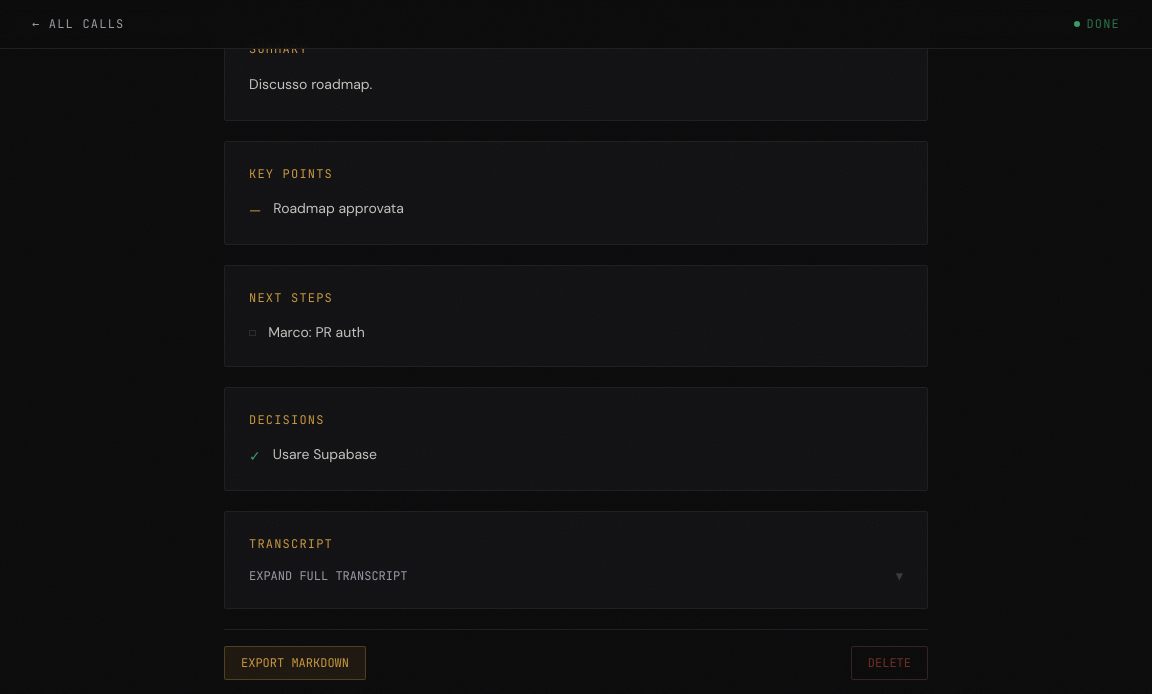
Test: CallDetail › espande la trascrizione al click
(page scrolled)
Step 1. Click the text "EXPAND FULL TRANSCRIPT" → {"x": 328, "y": 576}, box [249,568,407,584]
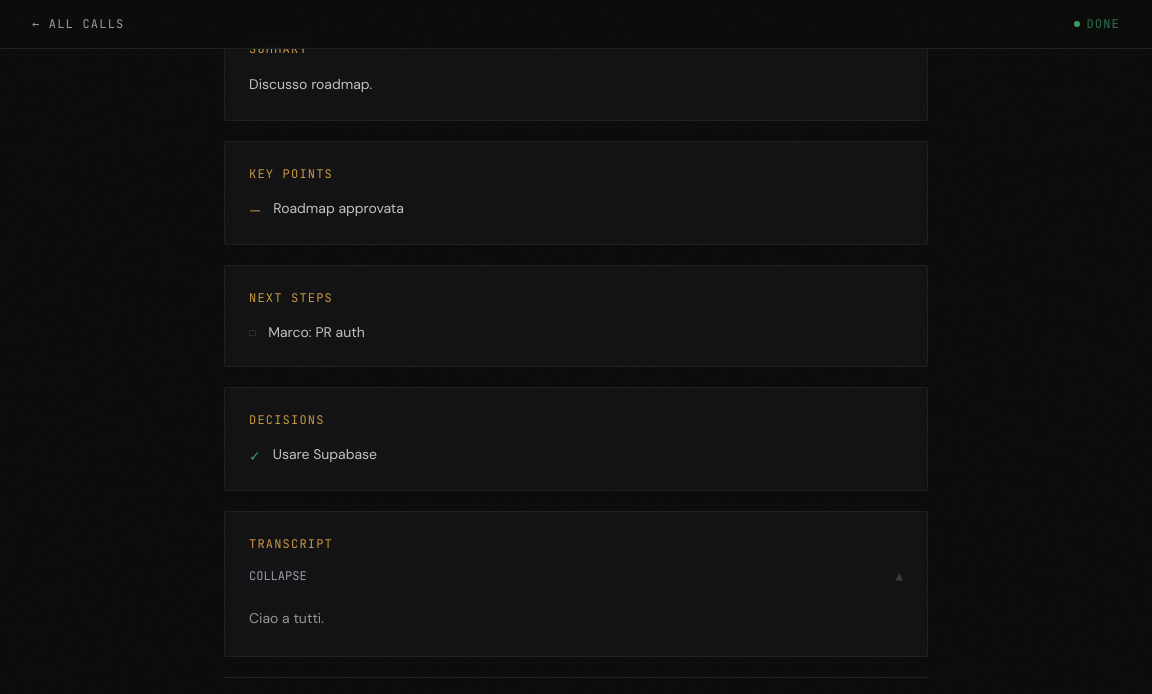
Now the text "Ciao a tutti." is shown, box [249,609,324,627]
